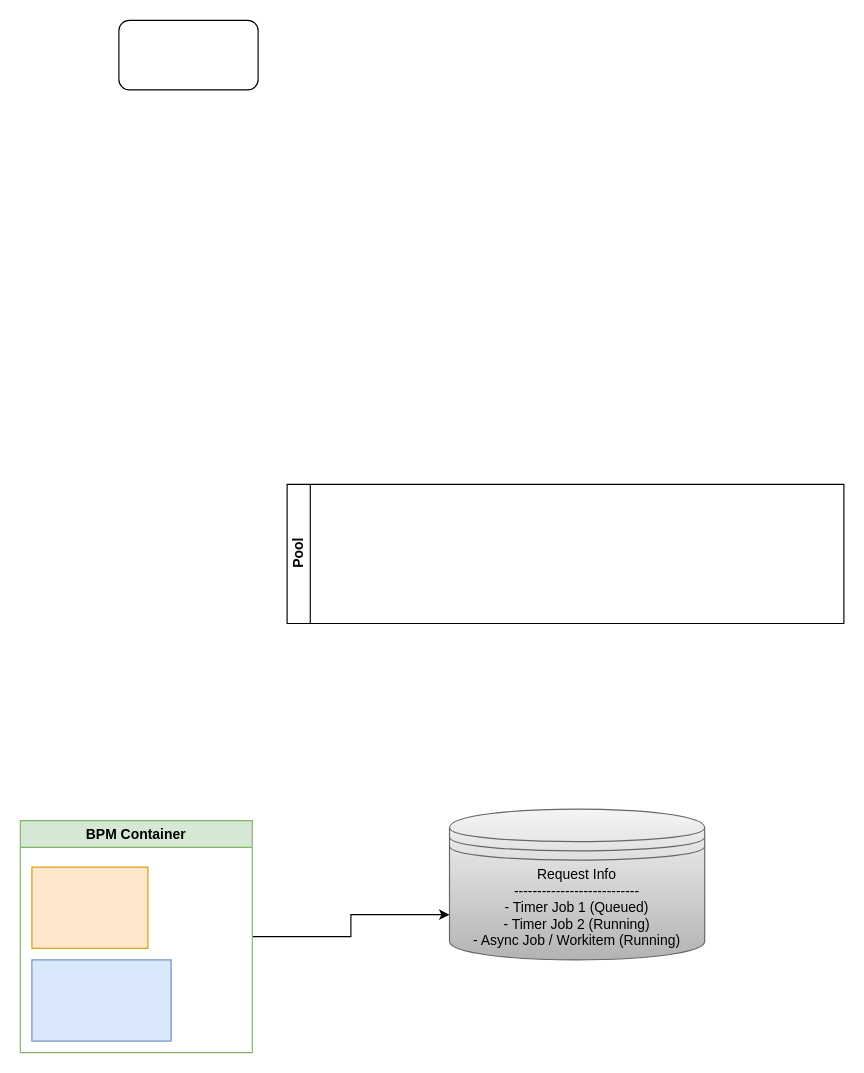
The diagram is 864 pixels wide and 1073 high, and some of its shapes have lost their labels. The centre of each missing label's shape, as x and y in pixels:
BPM Engine Timer Job 1 Timer Job 2 Async WorkItem 1: the point at 101,1000
Job Executor Thread 1 Thread 2 Thread 3: the point at 89,907
